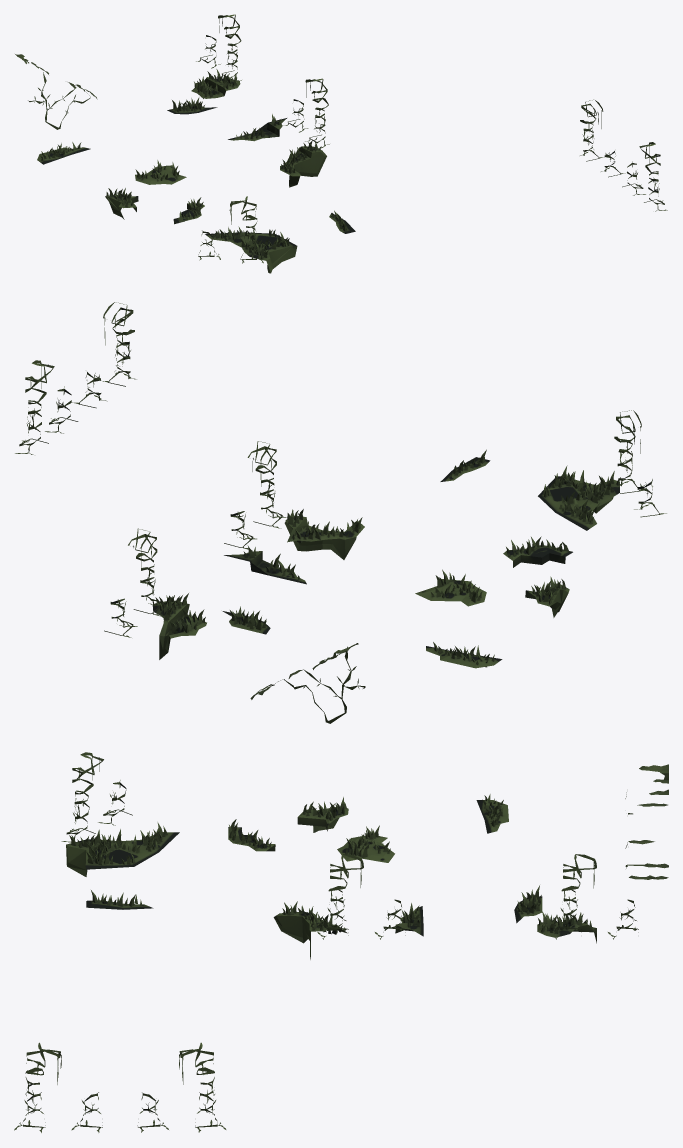
Rendered from Plant_01.FBX.
3 views of the same model, one above another, from view 1: azimuth 30°, elevation 25°; view 2: azimuth 150°, elevation 25°; view 3: azimuth 270°, elevation 25° (orthographic). The views are drawn at different scales.
Visible parts, largest first — view 1: Plant_01; view 2: Plant_01; view 3: Plant_01.
Boxes of the visible parts, x1,y1,x2,y2 form: Plant_01: (15,14,667,273); Plant_01: (15,302,666,723); Plant_01: (14,752,668,1132).
Size of the model in its own units: 35.45 by 7.05 by 33.03.
